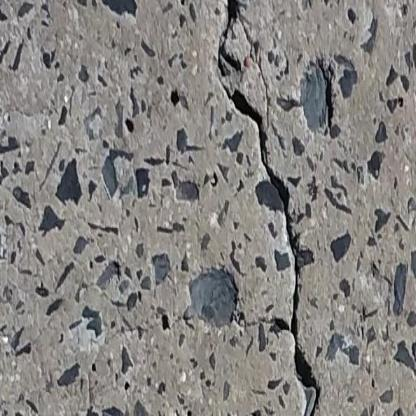Cracks: (211, 0, 324, 416)
